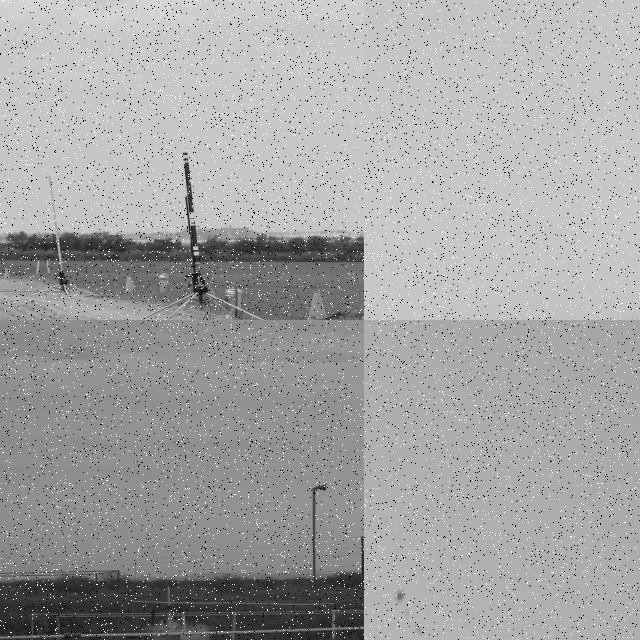Rocket: (182, 136, 209, 264), (149, 607, 157, 632), (166, 586, 173, 610), (160, 617, 164, 634)
